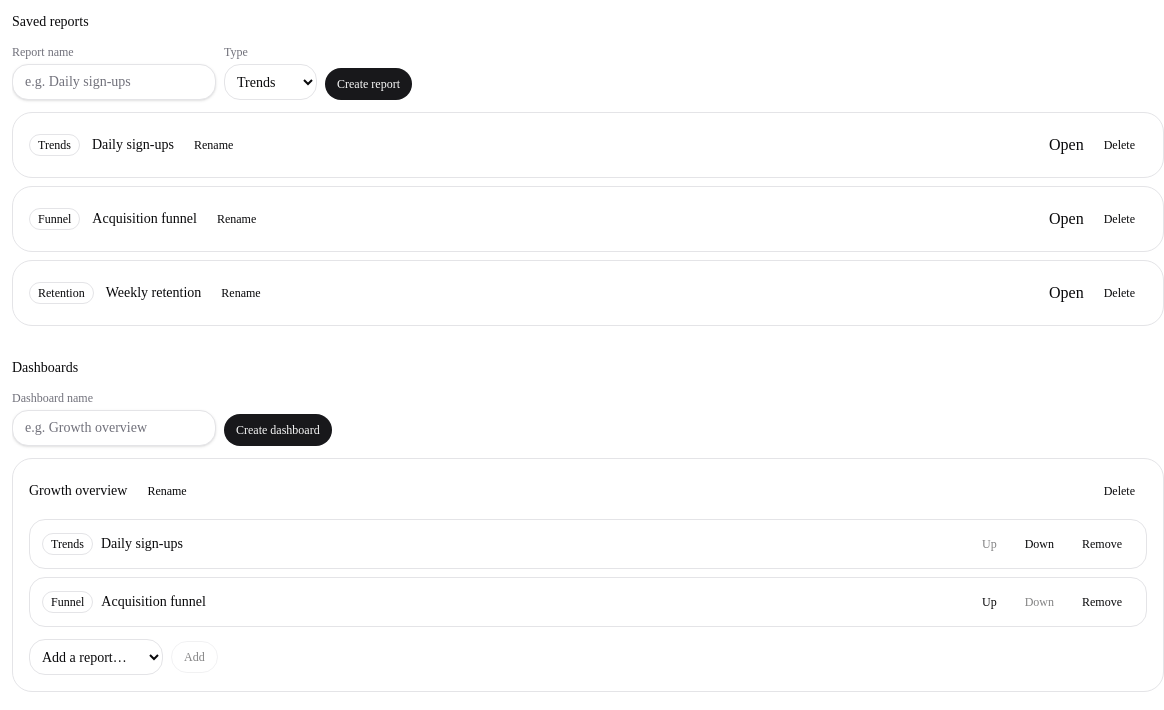
Test: DashboardManager › surfaces a rejected write as a generic message and rolls back (ADR 0090/0019)
The width and height of the screenshot is (1164, 710).
Click the button with aria-label "Delete report Daily sign-ups" at (1119, 145), box [1092,129,1147,161]
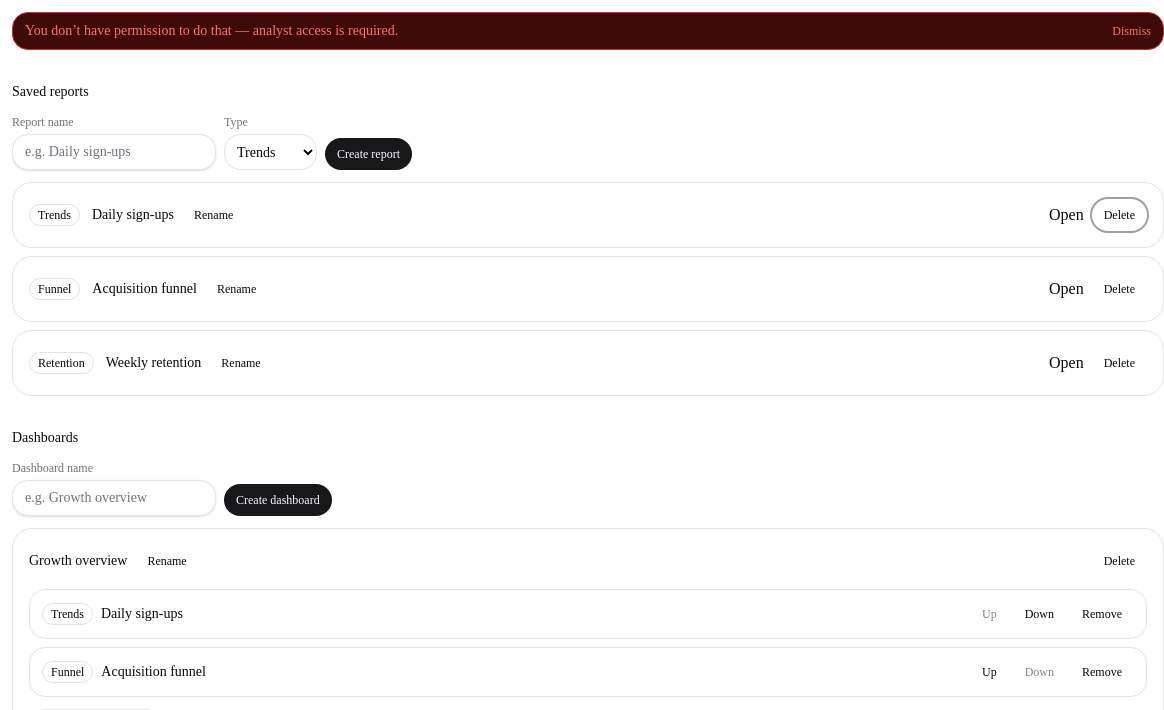
Result: the text "analyst access is required" is shown at [25,23,398,38]
